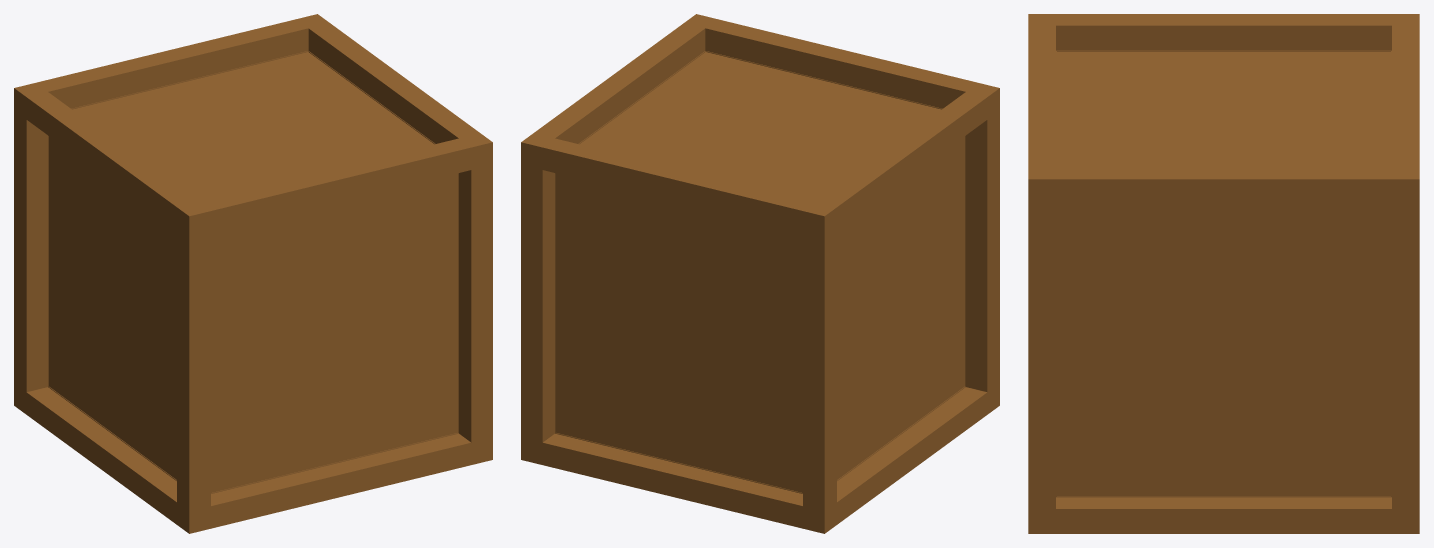
Rendered from crate.fbx.
The picture shows the model from 3 angles, left to right: view 1: azimuth 30°, elevation 25°; view 2: azimuth 150°, elevation 25°; view 3: azimuth 270°, elevation 25°; orthographic projection. The views are drawn at different scales.
Visible parts, largest first — view 1: Cube; view 2: Cube; view 3: Cube.
Boxes of the visible parts, bbox=[...] form: Cube: bbox=[14, 14, 492, 533]; Cube: bbox=[521, 14, 999, 533]; Cube: bbox=[1028, 14, 1419, 533].
Bounding box in the file's own units: 2 × 2 × 2.
